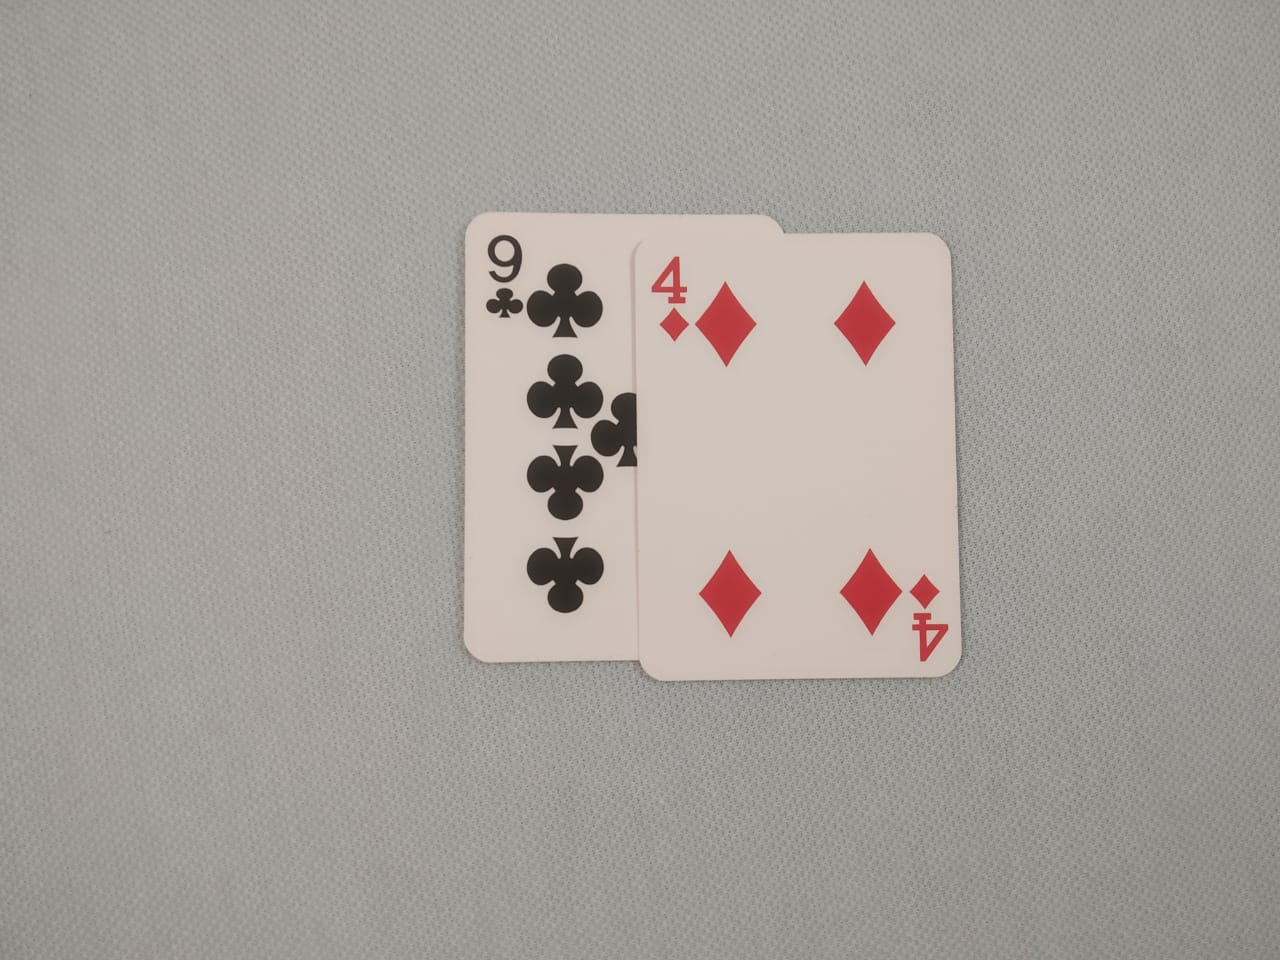four: (624, 219, 980, 693)
nine: (455, 197, 807, 689)
